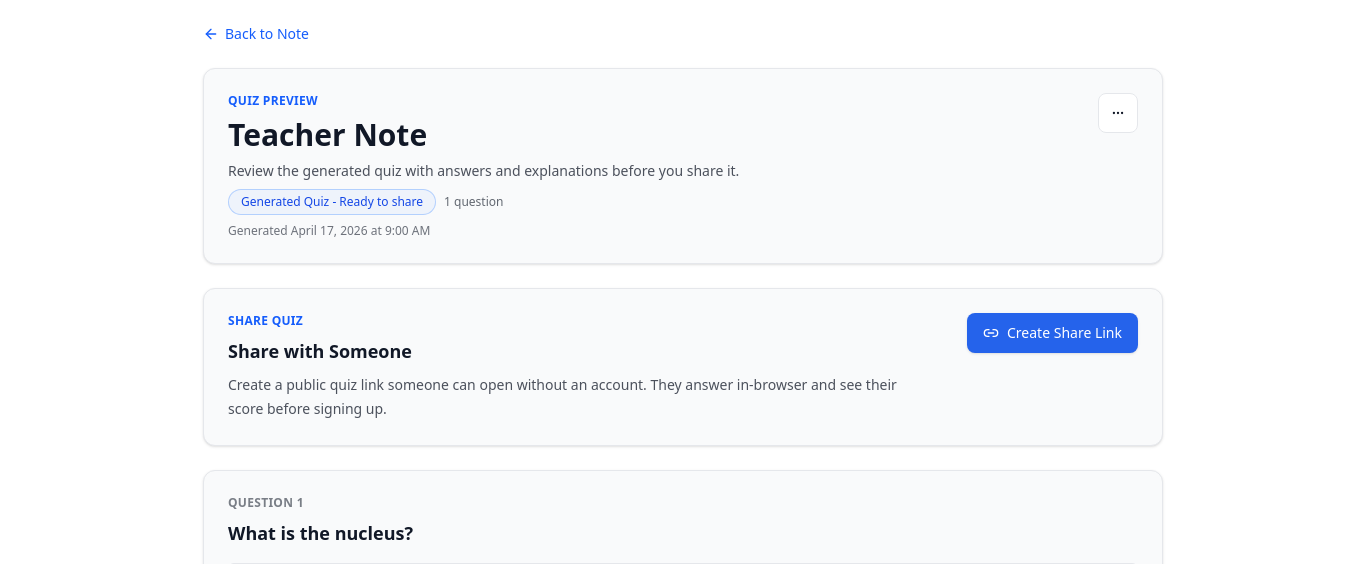
it: GeneratedQuizPreviewPageClient › lets a student create a share link while keeping DOCX export hidden
This screenshot has width=1366, height=564.
Expected: the heading "What is the nucleus?" is shown, [228,521,413,545]
Expected: the element "Share with Someone" is shown, [228,313,900,421]
Click the button "Create Share Link" at (1052, 333), box [967,313,1138,353]
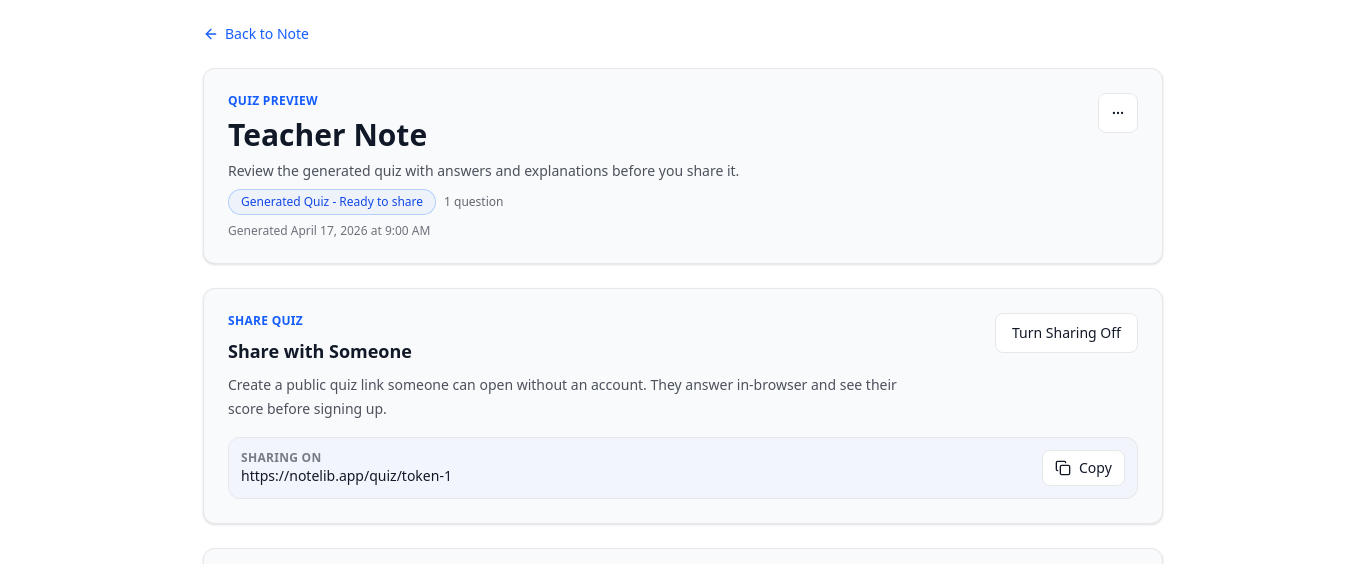
Now the text "https://notelib.app/quiz/token-1" is shown, box [241,466,452,485]
